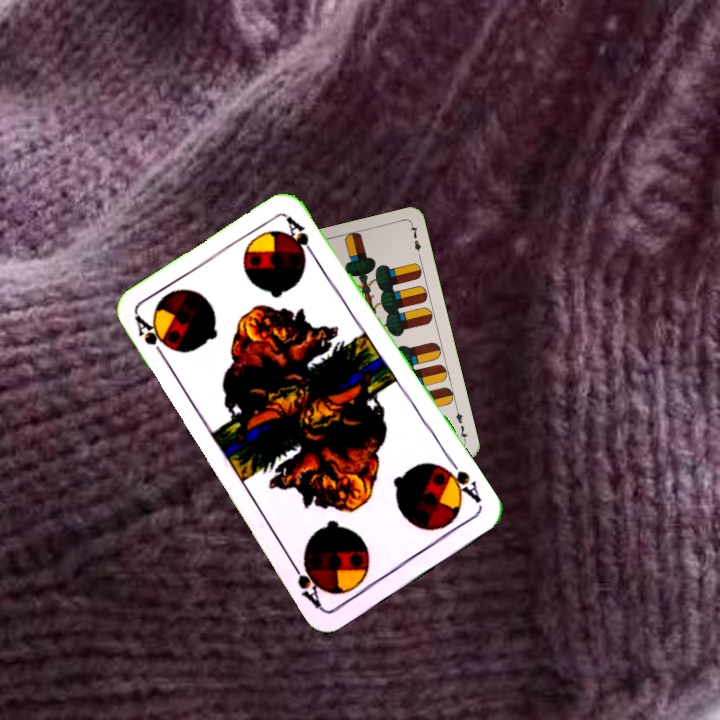E7: (452, 404, 470, 444)
SA: (437, 455, 484, 506), (131, 312, 170, 365)
